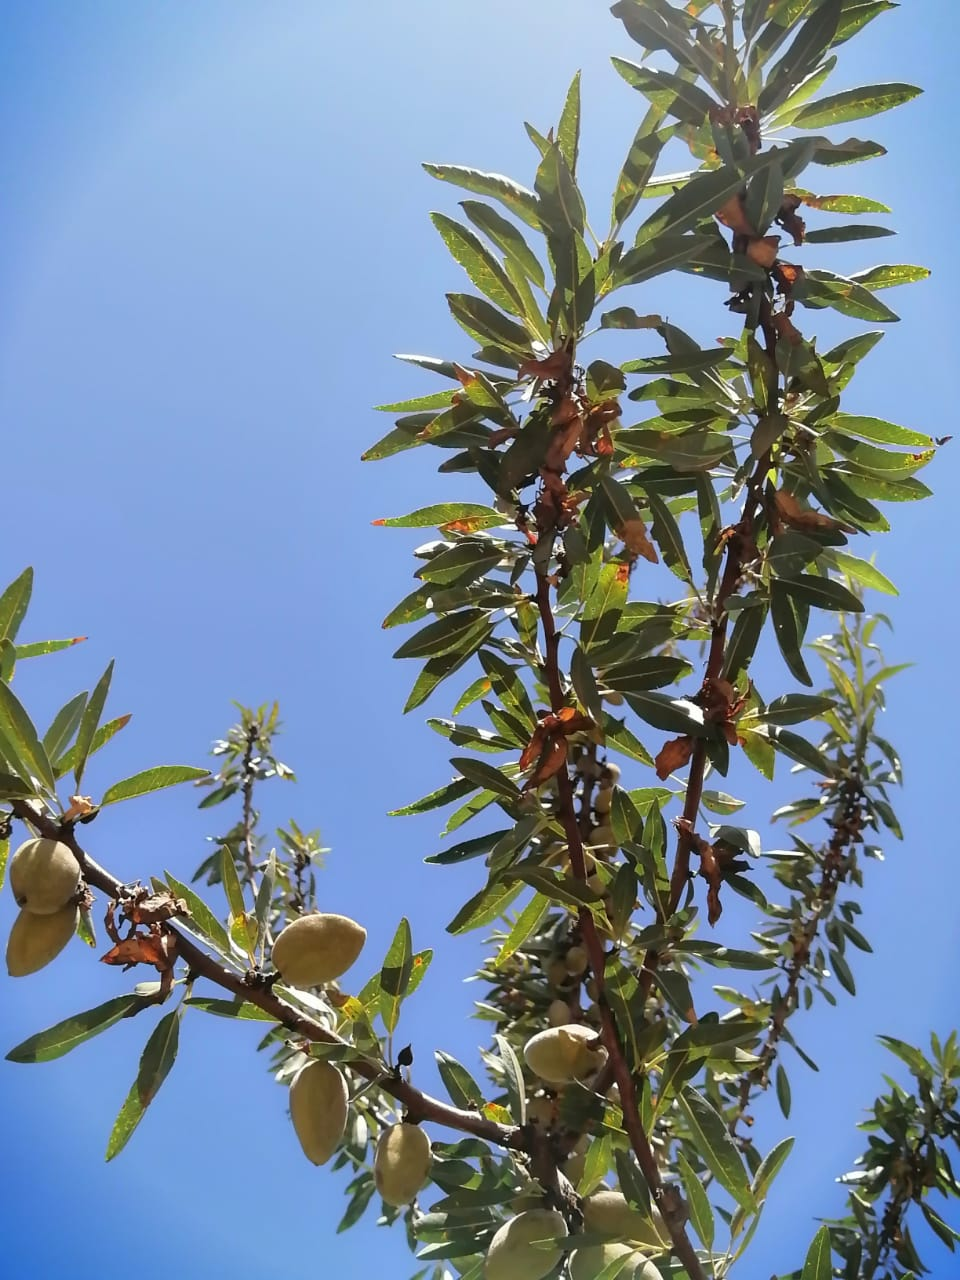scolytes: (702, 104, 851, 546), (506, 337, 629, 800), (783, 765, 872, 983)
